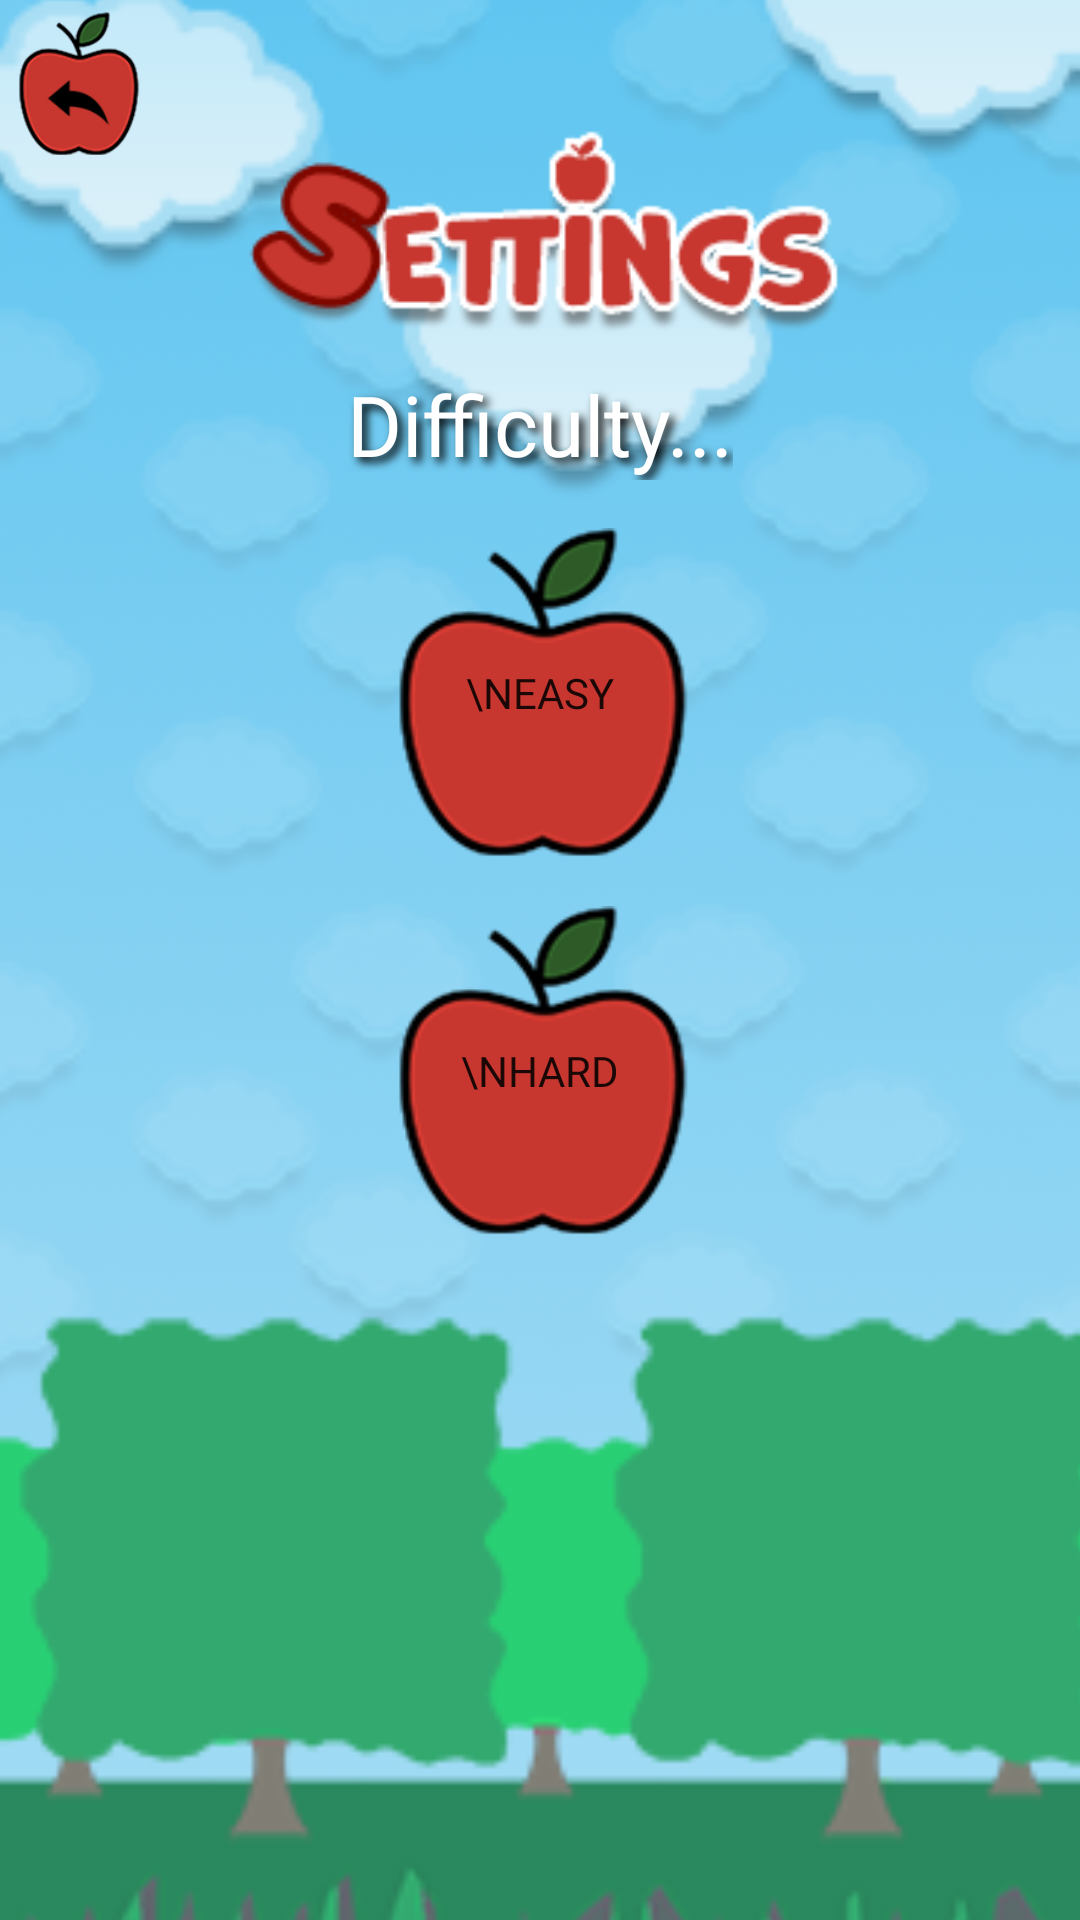

Locate icon controls on the screen. Image size 1080 x 1920, boxes as [x1,y1,x2,y2].
backbutton: [6,12,139,156]
